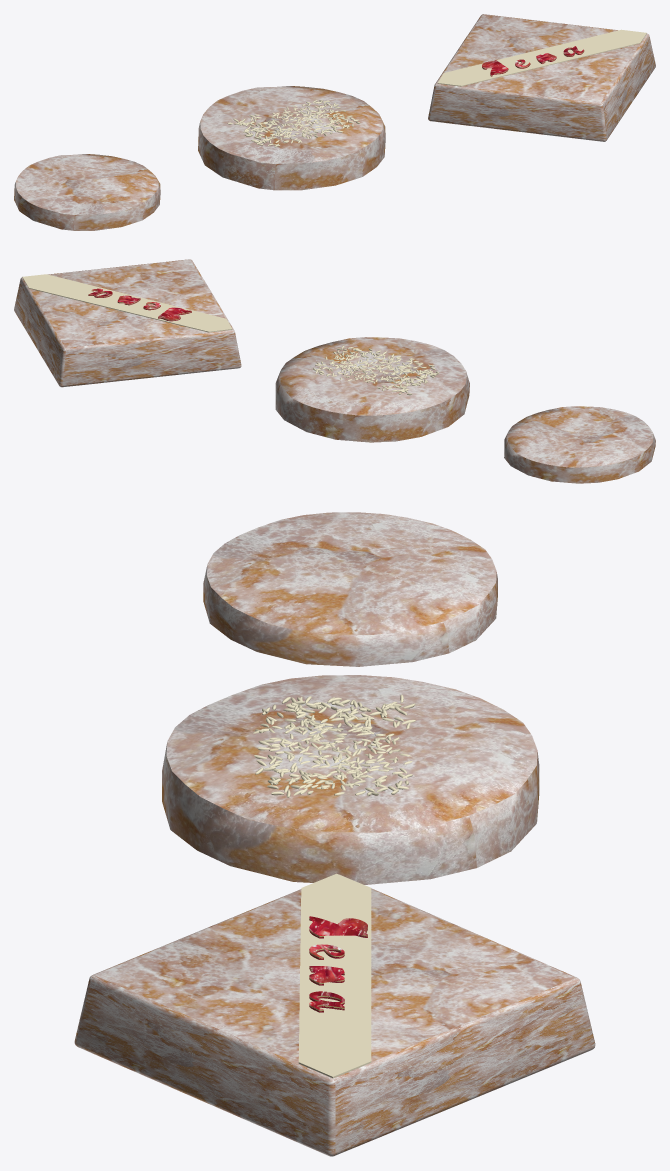
File: torte.fbx
The picture shows the model from 3 angles, top to bottom: view 1: azimuth 30°, elevation 25°; view 2: azimuth 150°, elevation 25°; view 3: azimuth 270°, elevation 25°; orthographic projection. The views are drawn at different scales.
Parts seen in each view (by area): view 1: Cube, pinolata, pandispagna, Cube_1, testo; view 2: Cube, pinolata, pandispagna, Cube_1, testo; view 3: Cube, pinolata, pandispagna, Cube_1, testo.
Part boxes in pixels (<box>): Cube: <box>428,14,655,141</box>; pinolata: <box>198,86,385,190</box>; pandispagna: <box>14,154,160,230</box>; Cube_1: <box>437,29,646,86</box>; testo: <box>482,46,584,76</box>; Cube: <box>14,259,241,387</box>; pinolata: <box>275,337,469,442</box>; pandispagna: <box>504,406,655,483</box>; Cube_1: <box>22,274,232,332</box>; testo: <box>88,288,191,321</box>; Cube: <box>74,874,595,1156</box>; pinolata: <box>162,675,539,884</box>; pandispagna: <box>203,512,497,666</box>; Cube_1: <box>298,873,371,1078</box>; testo: <box>309,916,367,1012</box>.
Bounding box in the file's own units: 140 × 8.11 × 50.31.
